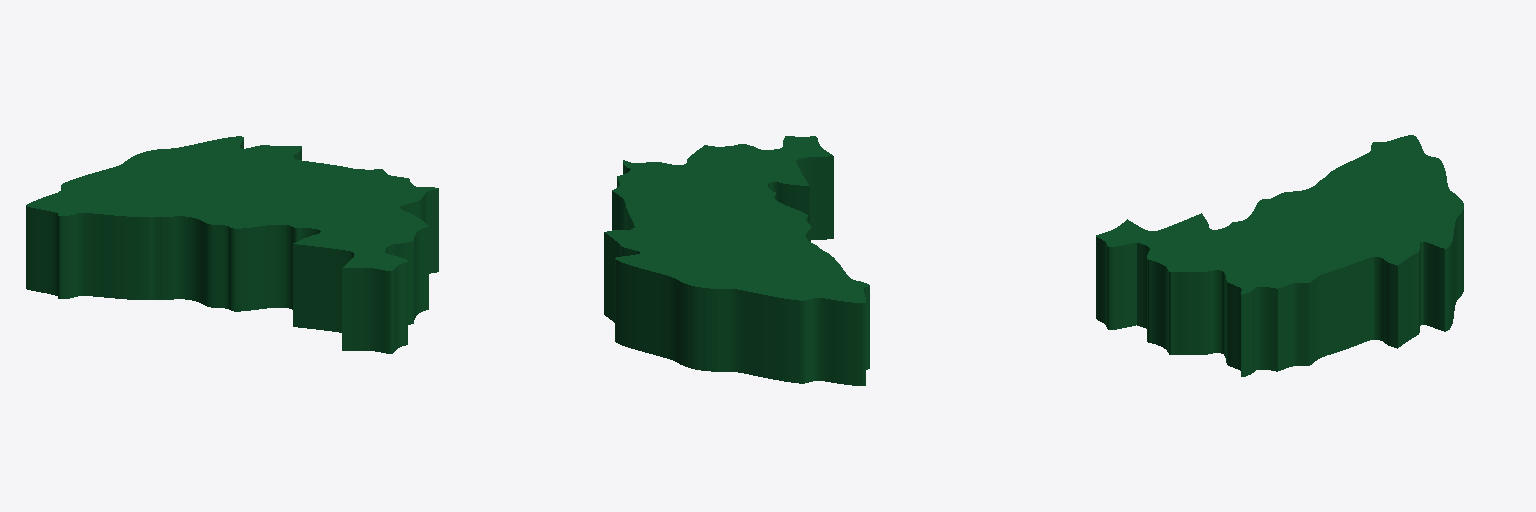
The model's file is Asia_10.obj.
The picture shows the model from 3 angles: view 1: azimuth 30°, elevation 25°; view 2: azimuth 150°, elevation 25°; view 3: azimuth 270°, elevation 25°; orthographic projection.
Visible parts, largest first — view 1: Asia_10_path4256; view 2: Asia_10_path4256; view 3: Asia_10_path4256.
Boxes of the visible parts, x1,y1,x2,y2 form: Asia_10_path4256: [26, 136, 438, 353]; Asia_10_path4256: [604, 136, 869, 385]; Asia_10_path4256: [1096, 135, 1463, 376].
Size of the model in its own units: 0.4136 by 0.1 by 0.4021.